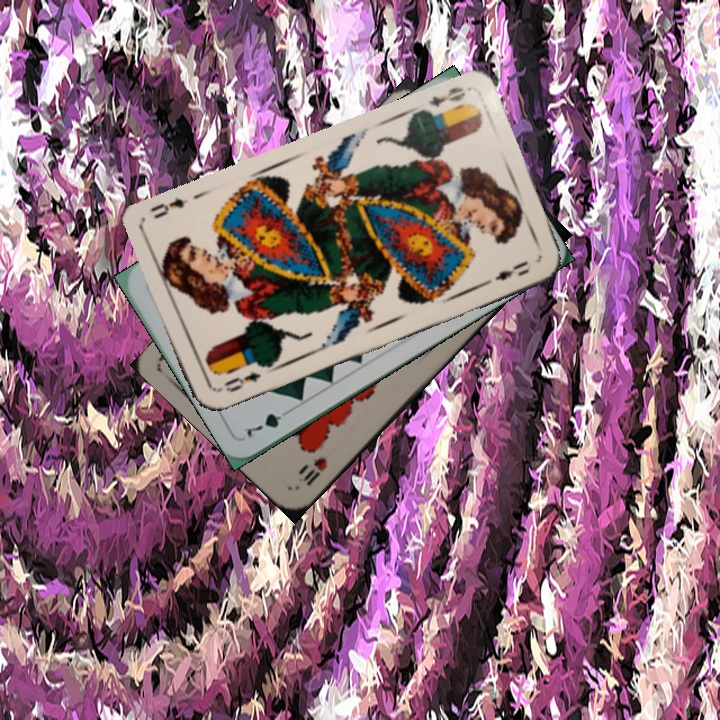EO: (219, 367, 264, 395), (425, 82, 468, 110)
G7: (242, 404, 295, 441)
H10: (294, 453, 330, 489)
